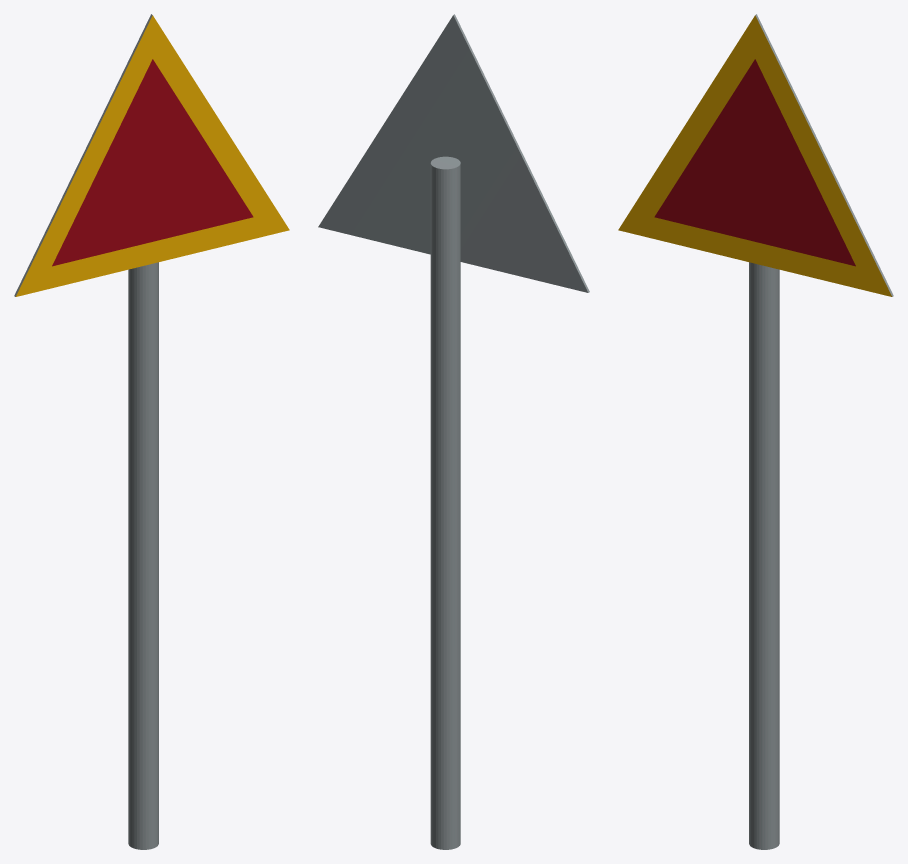
The model's file is road_sign.fbx.
The picture shows the model from 3 angles, left to right: view 1: azimuth 30°, elevation 25°; view 2: azimuth 150°, elevation 25°; view 3: azimuth 330°, elevation 25°; orthographic projection.
Parts seen in each view (by area): view 1: Cylinder.001; view 2: Cylinder.001; view 3: Cylinder.001.
Boxes of the visible parts, x1=… form: Cylinder.001: x1=14, y1=14, x2=289, y2=849; Cylinder.001: x1=318, y1=14, x2=589, y2=849; Cylinder.001: x1=618, y1=14, x2=893, y2=849.
Bounding box in the file's own units: 104 × 302 × 10.98.
